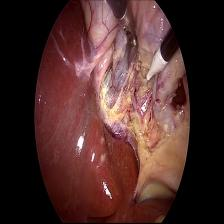Grasper: (116, 9, 140, 56)
Hook: (144, 44, 168, 85)
